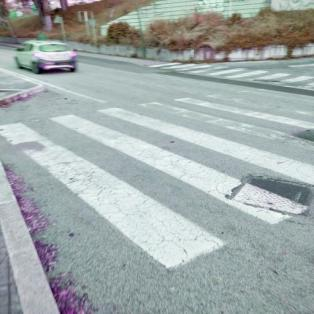Paso de Cebra: (0, 109, 310, 274)
